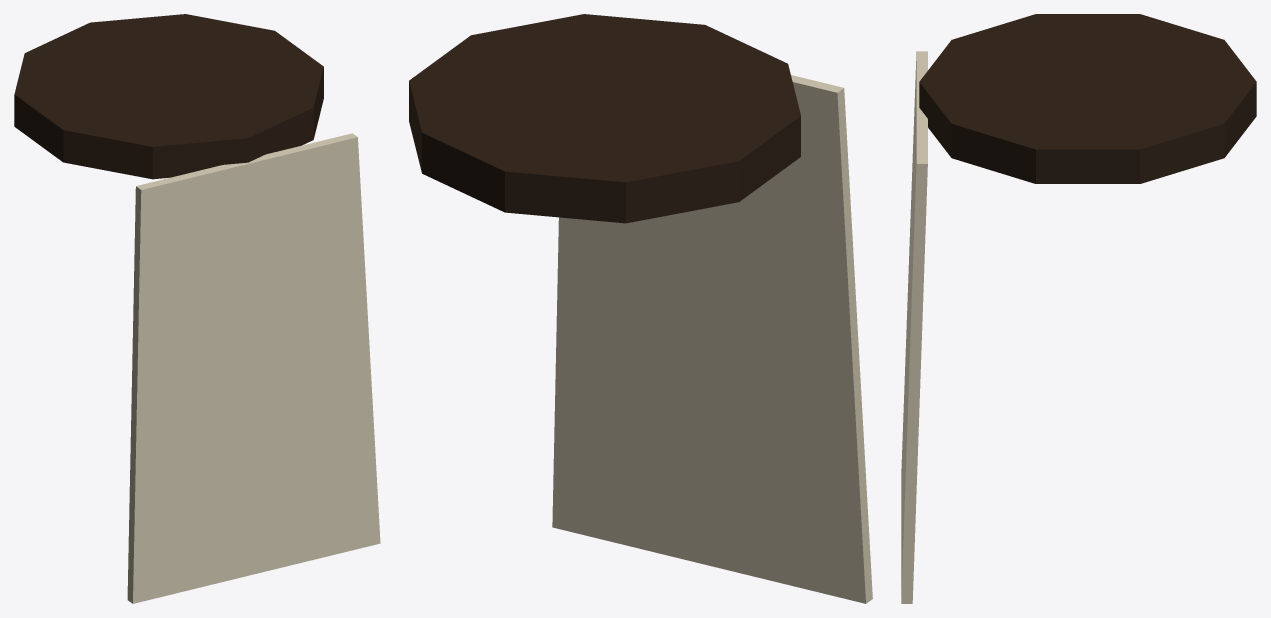
Rendered from apron_male.glb.
3 views of the same model, side by side, from view 1: azimuth 30°, elevation 25°; view 2: azimuth 150°, elevation 25°; view 3: azimuth 270°, elevation 25° (orthographic). The views are drawn at different scales.
Visible parts, largest first — view 1: apron_male; view 2: apron_male; view 3: apron_male.
Part boxes in pixels (left/top/right/bottom): apron_male: left=14, top=14, right=380, bottom=603; apron_male: left=409, top=14, right=872, bottom=603; apron_male: left=901, top=14, right=1256, bottom=603.
Size of the model in its own units: 0.3367 by 0.53 by 0.373.
